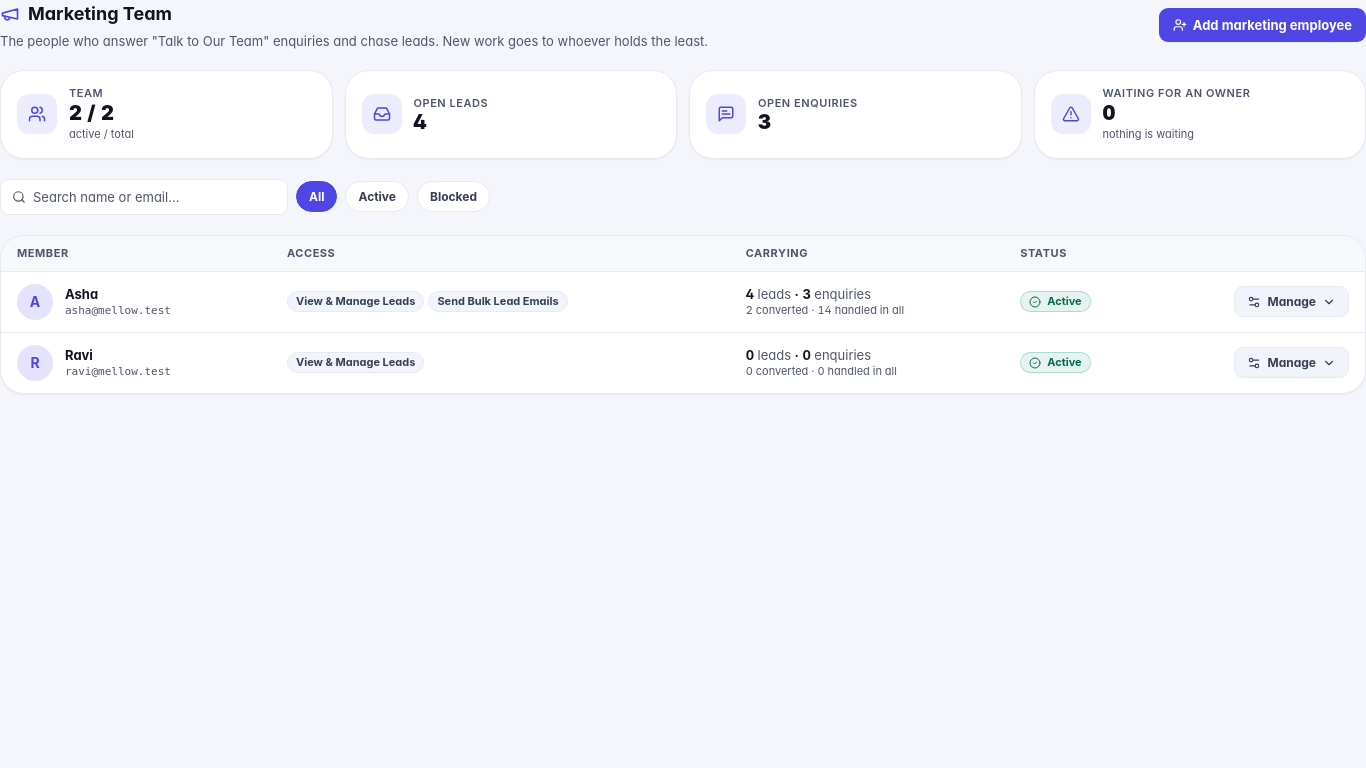
adding › keeps the form and shows the server's reason when the email is taken
Click the button "Add marketing employee".
click(1262, 25)  # box [1159,8,1365,42]
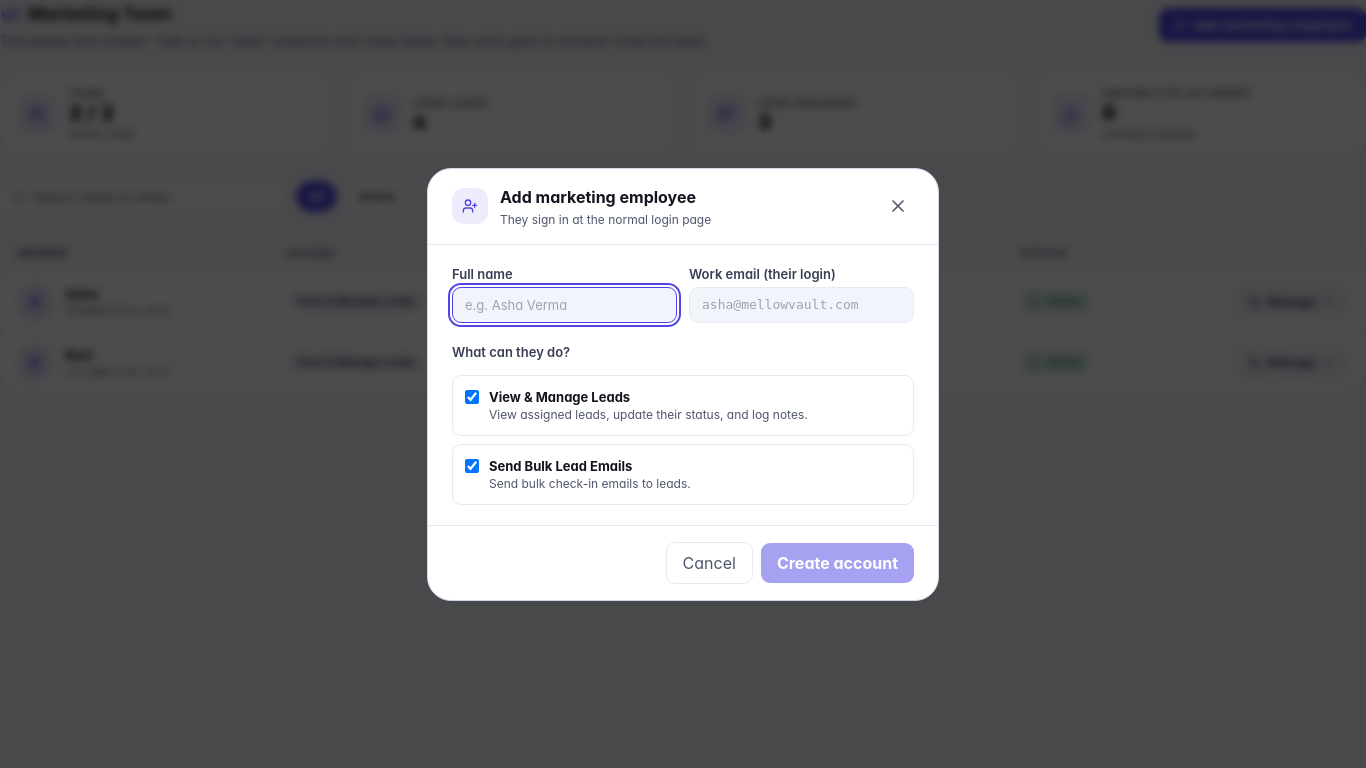
Type "Kabir" into the field labelled "Full name".
click(564, 304); type("Kabir")  # box [452,286,677,322]
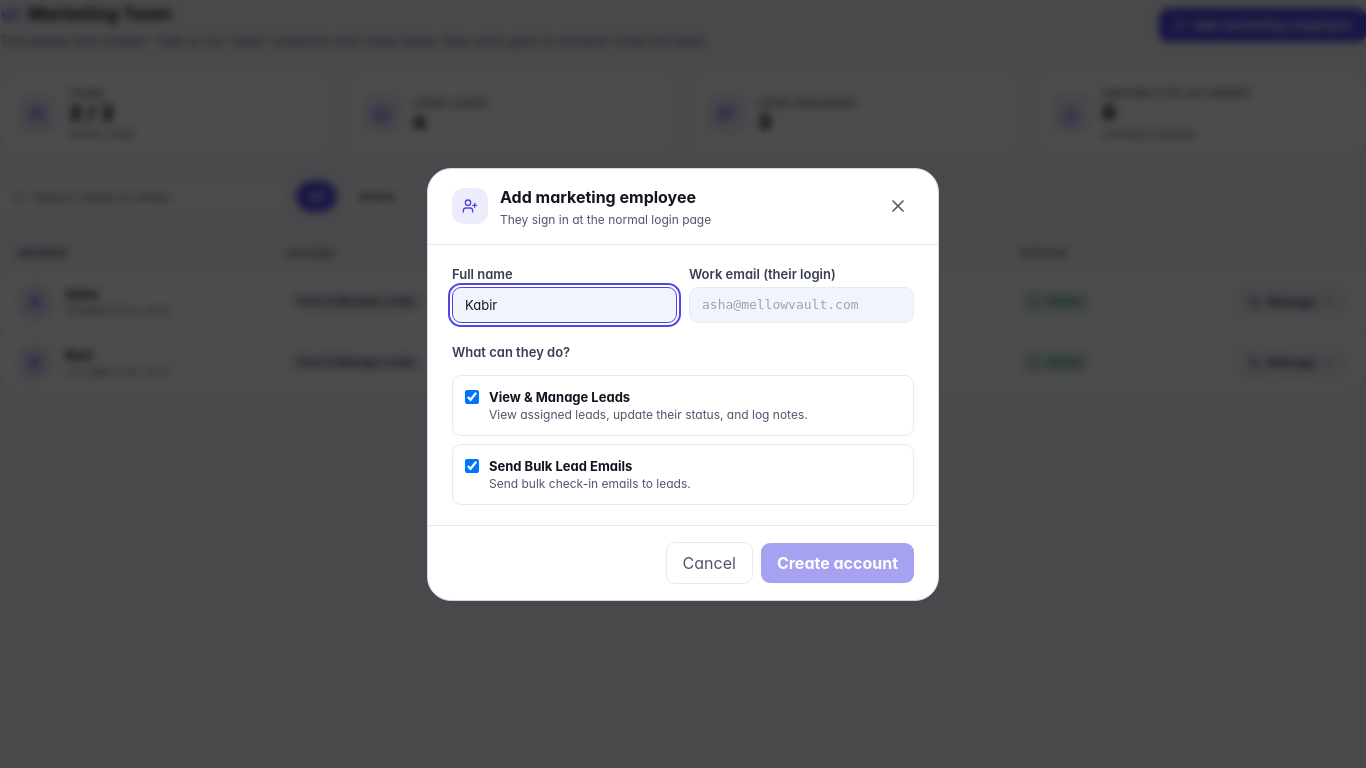
Type "asha@mellow.test" into the field labelled "Work email (their login)".
click(802, 304); type("asha@mellow.test")  # box [689,286,914,322]
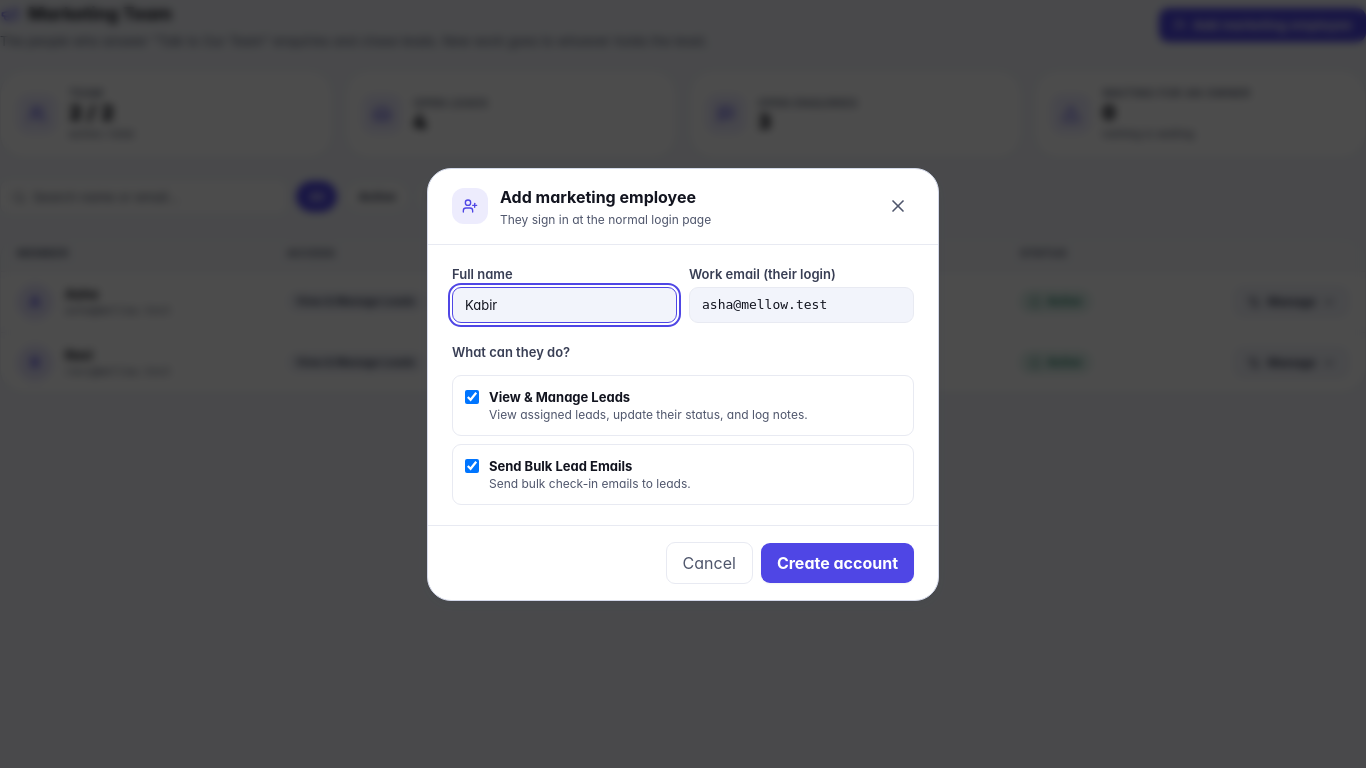
Click the button "Create account".
click(837, 562)  # box [761,542,914,582]
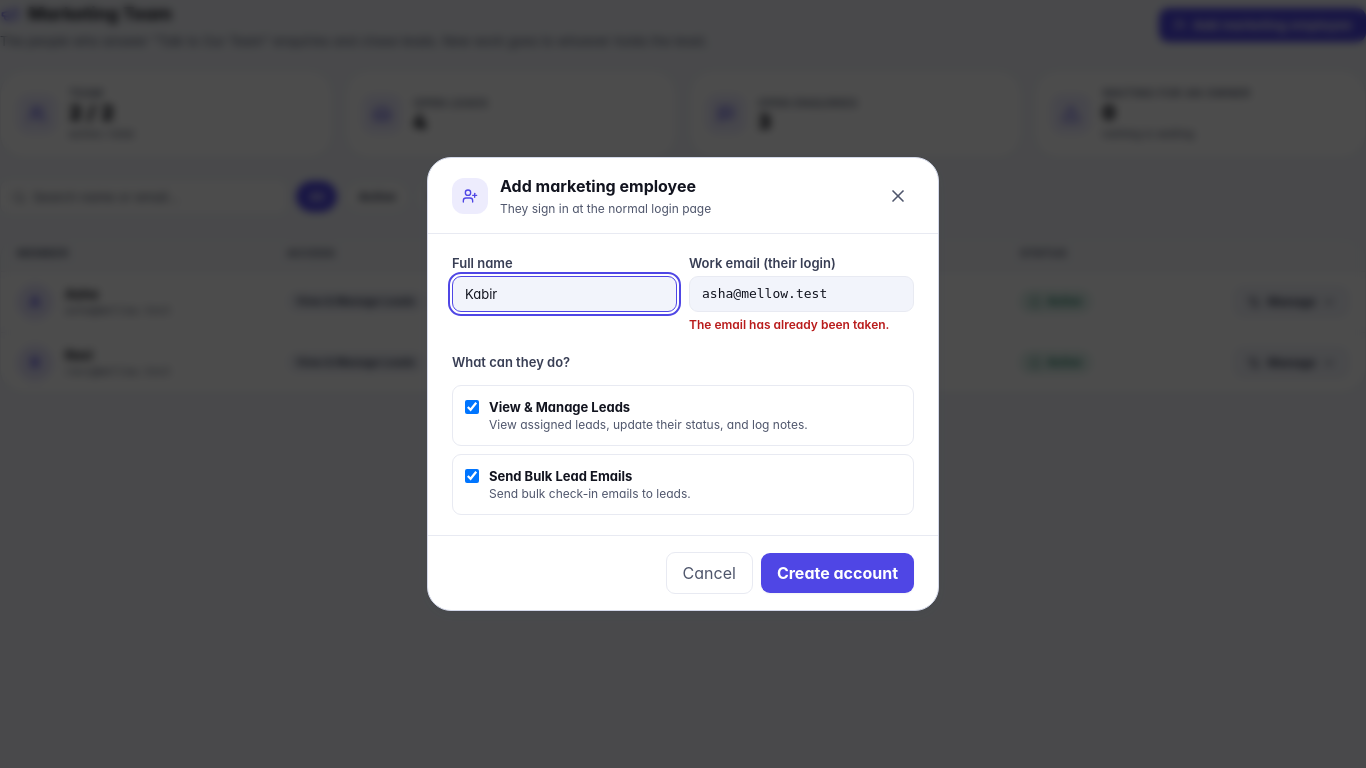
Now the text "The email has already been taken." is shown, box [689,316,914,333]
